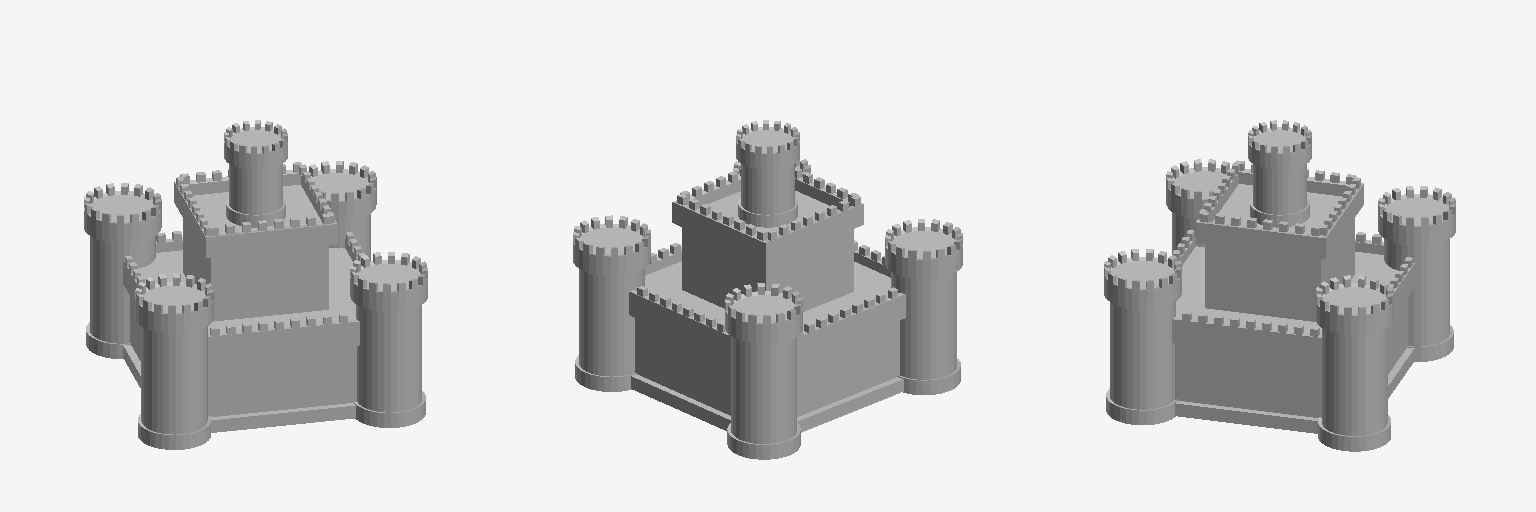
Rendered from castle.obj.
3 renders of one model, left to right at view 1: azimuth 30°, elevation 25°; view 2: azimuth 150°, elevation 25°; view 3: azimuth 270°, elevation 25°, orthographic.
Visible parts, largest first — view 1: Cube.011_Cube.019; view 2: Cube.011_Cube.019; view 3: Cube.011_Cube.019.
Part boxes in pixels (bbox=[...]): Cube.011_Cube.019: bbox=[84, 120, 427, 449]; Cube.011_Cube.019: bbox=[573, 120, 962, 459]; Cube.011_Cube.019: bbox=[1104, 120, 1455, 451].
Bounding box in the file's own units: 0.2063 × 0.1579 × 0.2063.